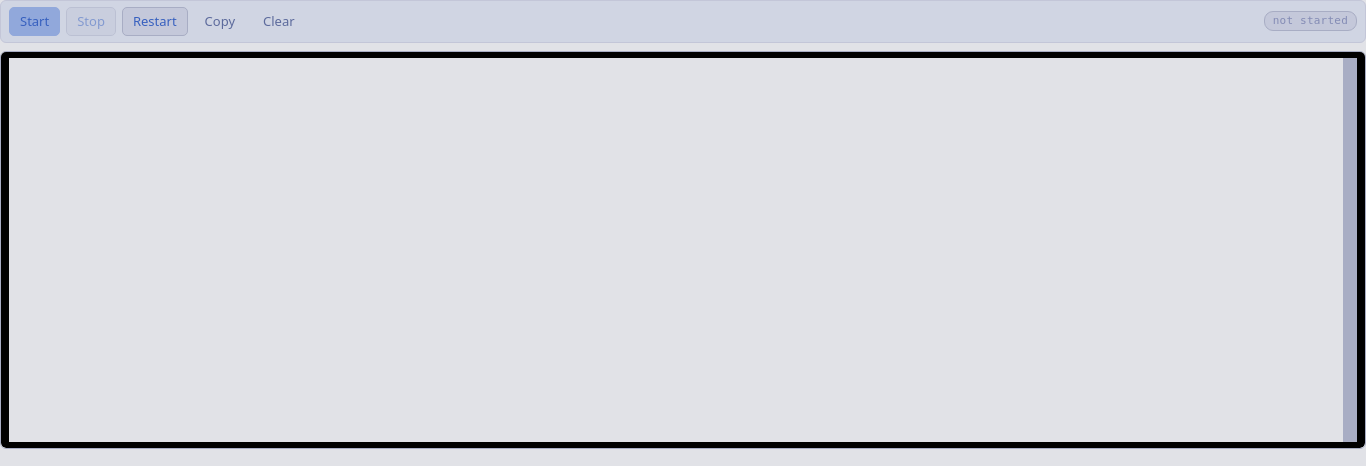
Scenario: SessionView: with the Rust core › hides the notice and runs the session through the toolbar
This screenshot has width=1366, height=466.
Click the button "Start".
click(35, 21)  # box [9,7,60,36]
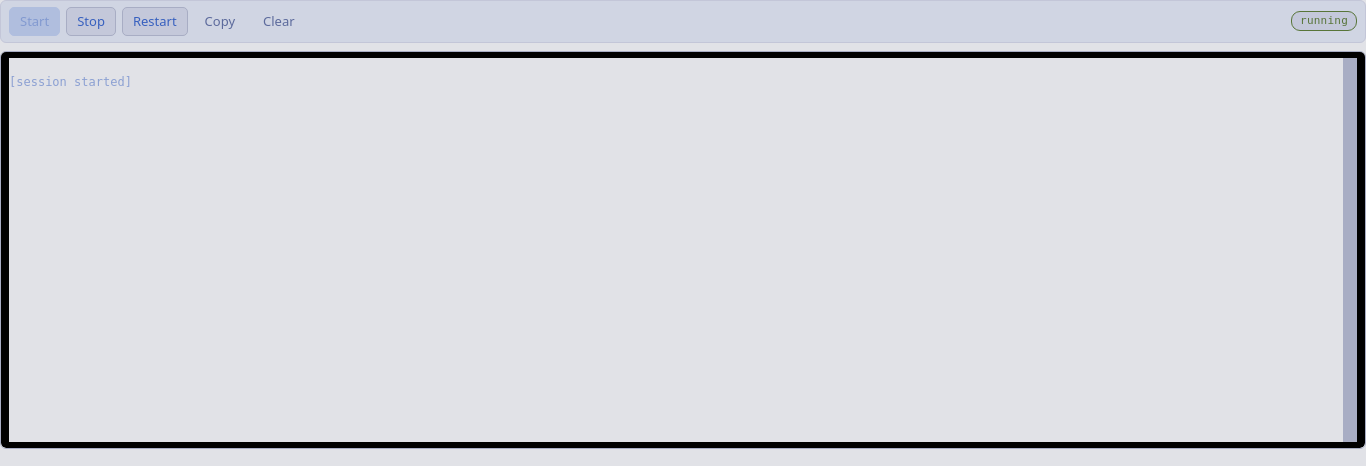
Now the message with class "session-chip" reads "running", box [1300,14,1348,28]
Now the button "Start" is disabled, box [9,7,60,36]
Now the button "Stop" is enabled
Click the button "Stop".
click(91, 21)  # box [66,7,116,36]
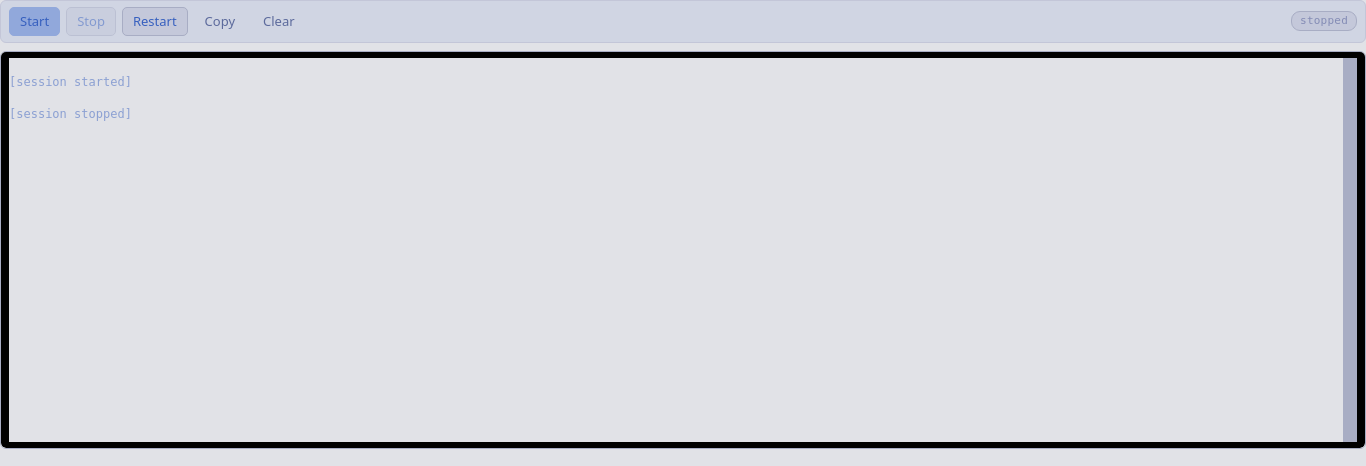
Now the message with class "session-chip" reads "stopped", box [1300,14,1348,28]
